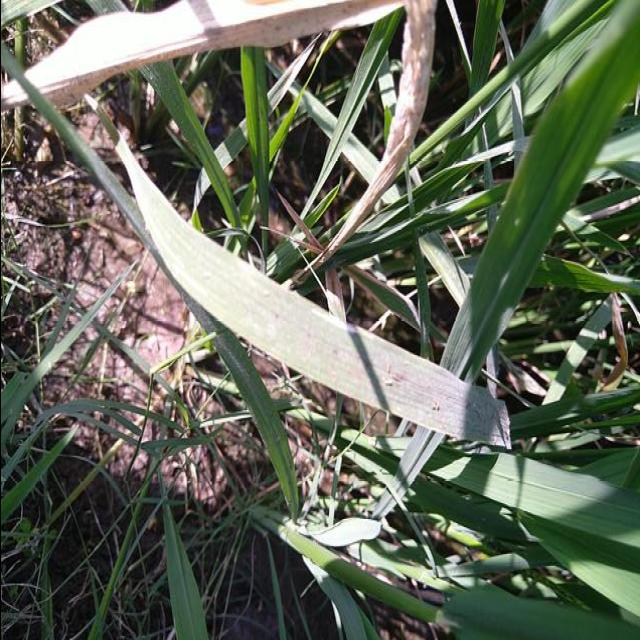Leaf Blight: (22, 0, 403, 108), (311, 0, 437, 270)
